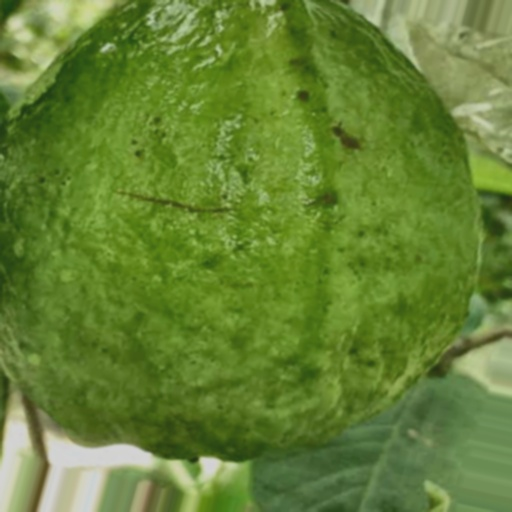guava: (21, 0, 436, 444)
